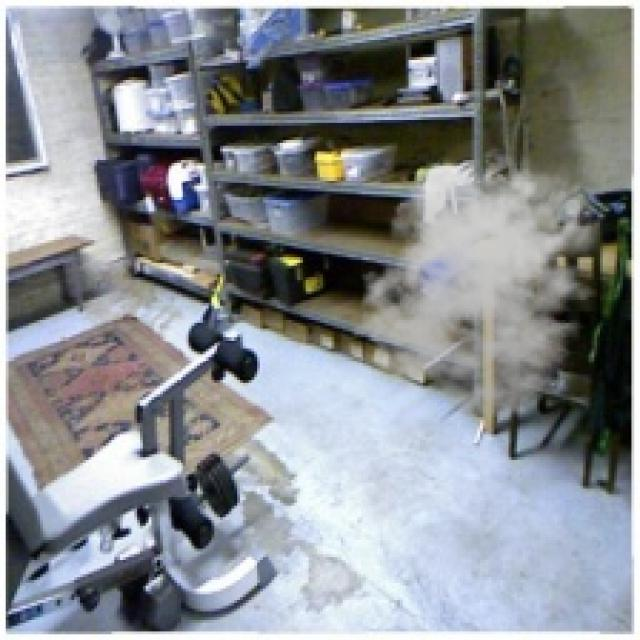smoke: (352, 151, 614, 420)
